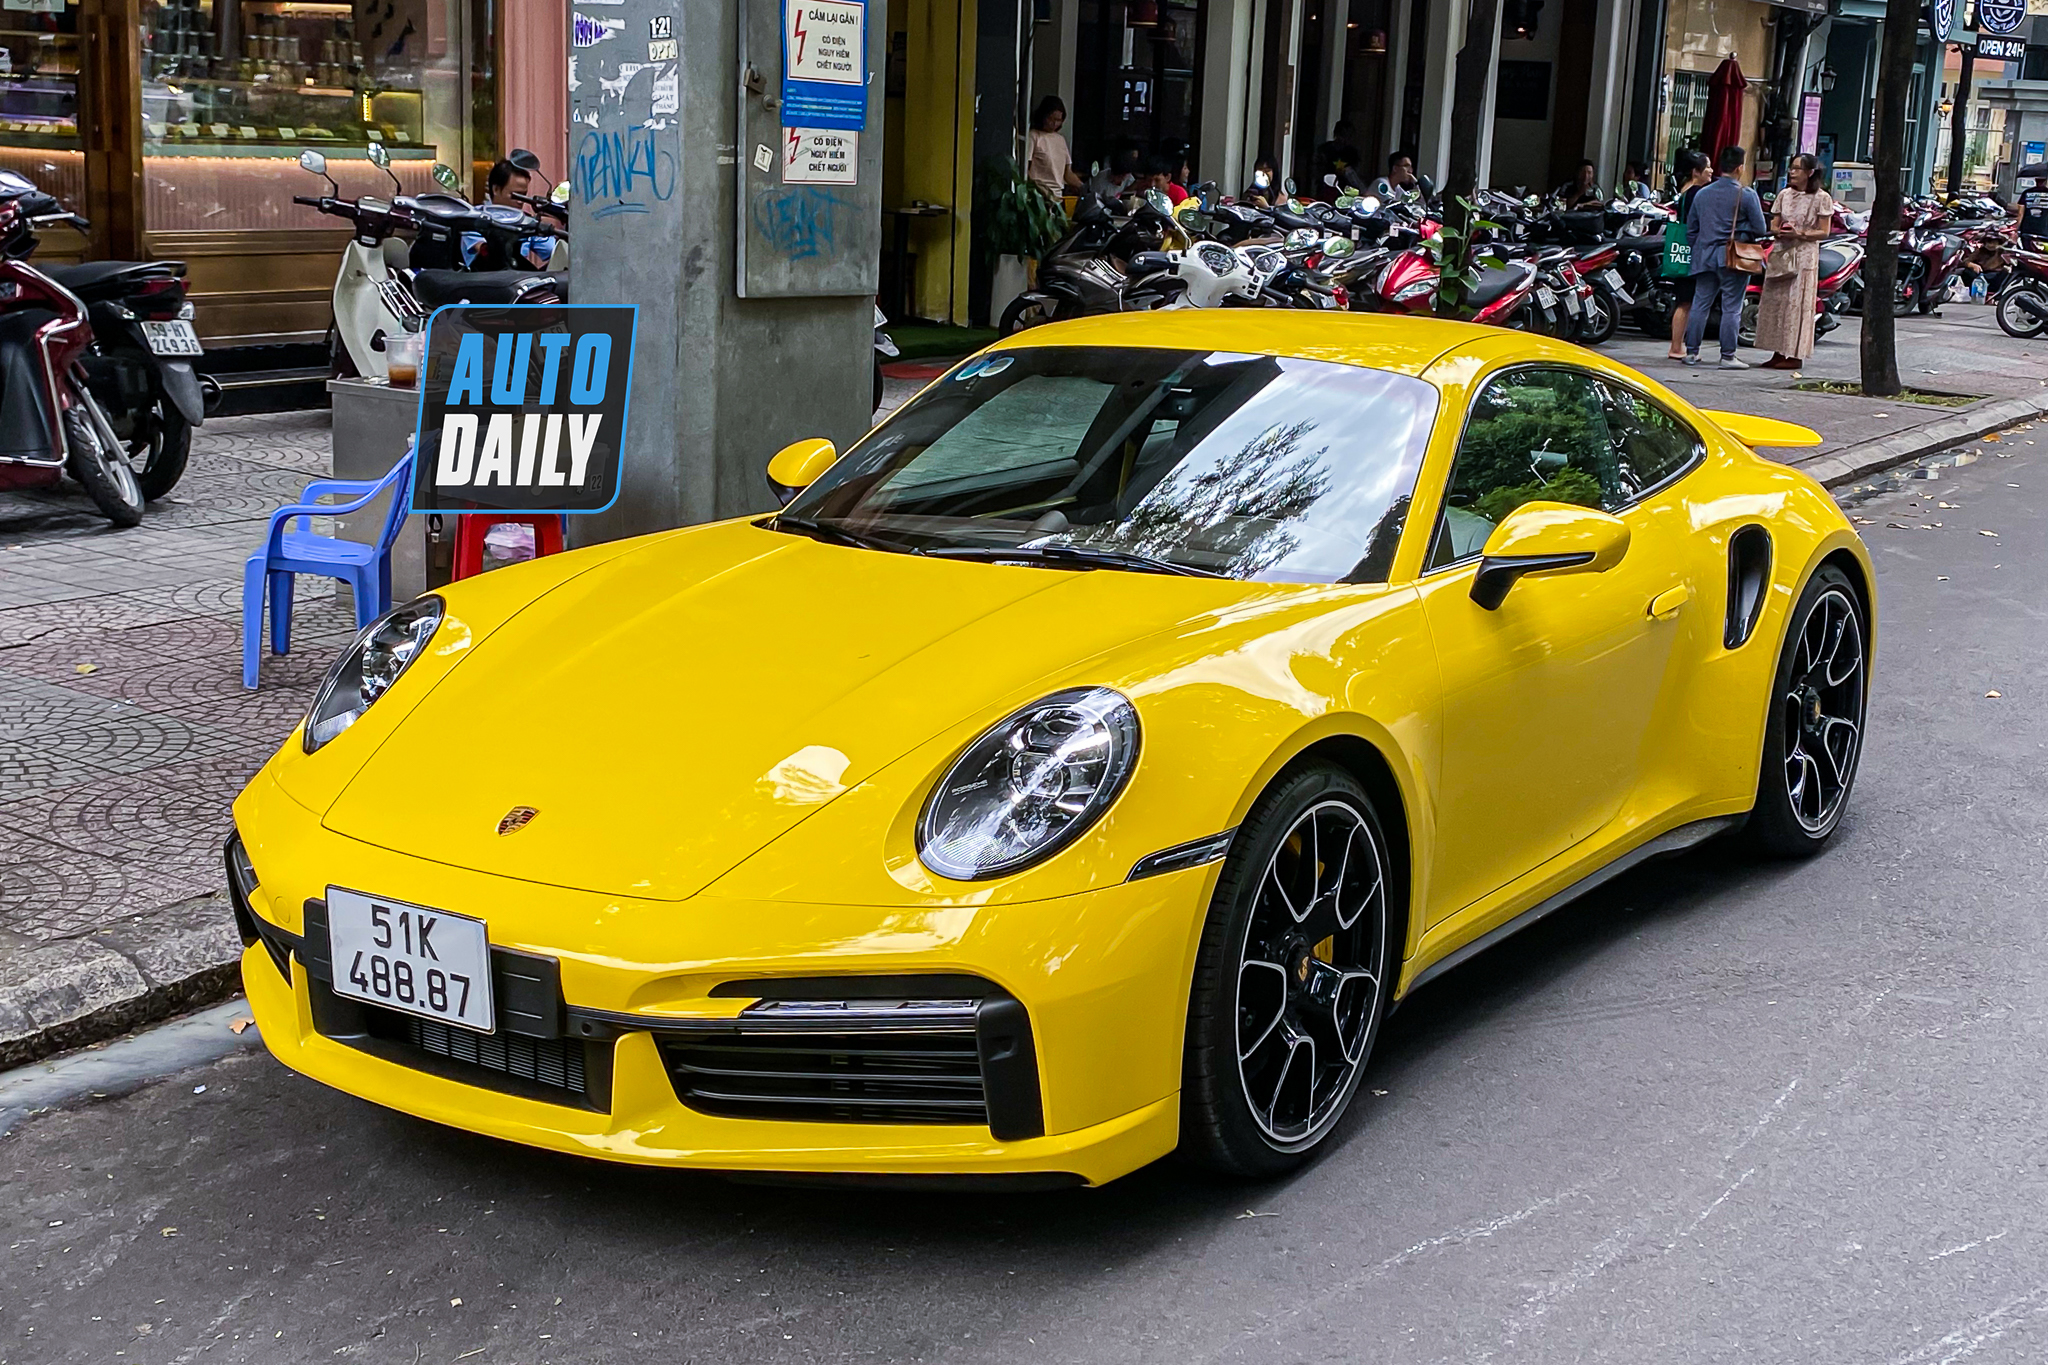number_plate: (305, 868, 519, 1041)
